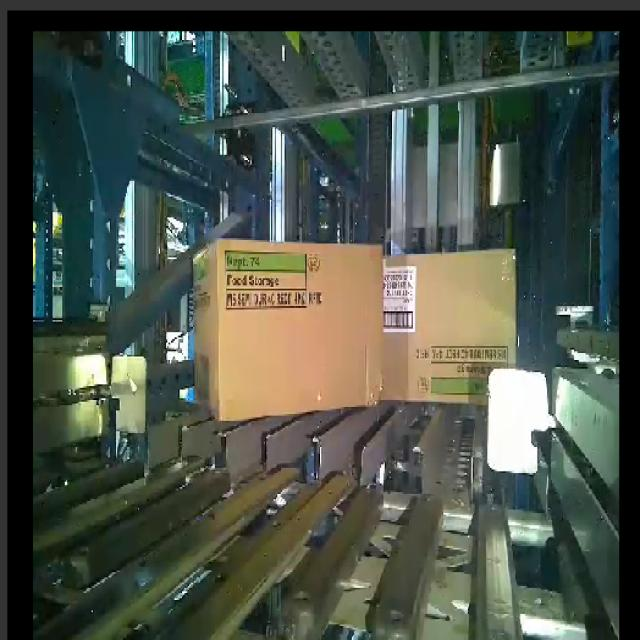box: (216, 240, 384, 422)
